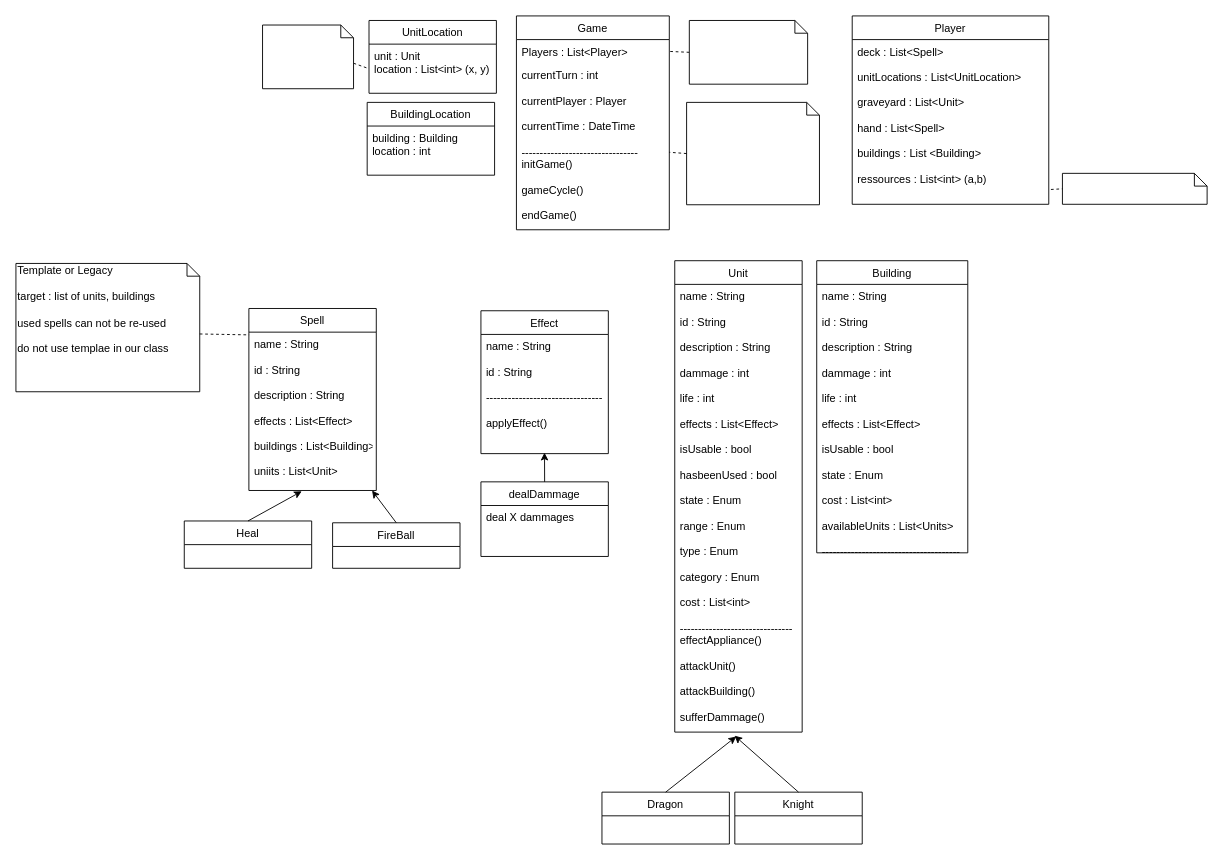
Image size: 1223x860. Some labels were removed from this diagram. Each missing label, with the centre of its shape:
a -> common ressource b -> rare ressource: point (1134, 188)
gameCycle -> while 2 players endGame -> give ressources, clean boards: point (752, 153)
If there is only one player -> end game (deconnection,: point (748, 52)
Position of field: point (308, 56)
